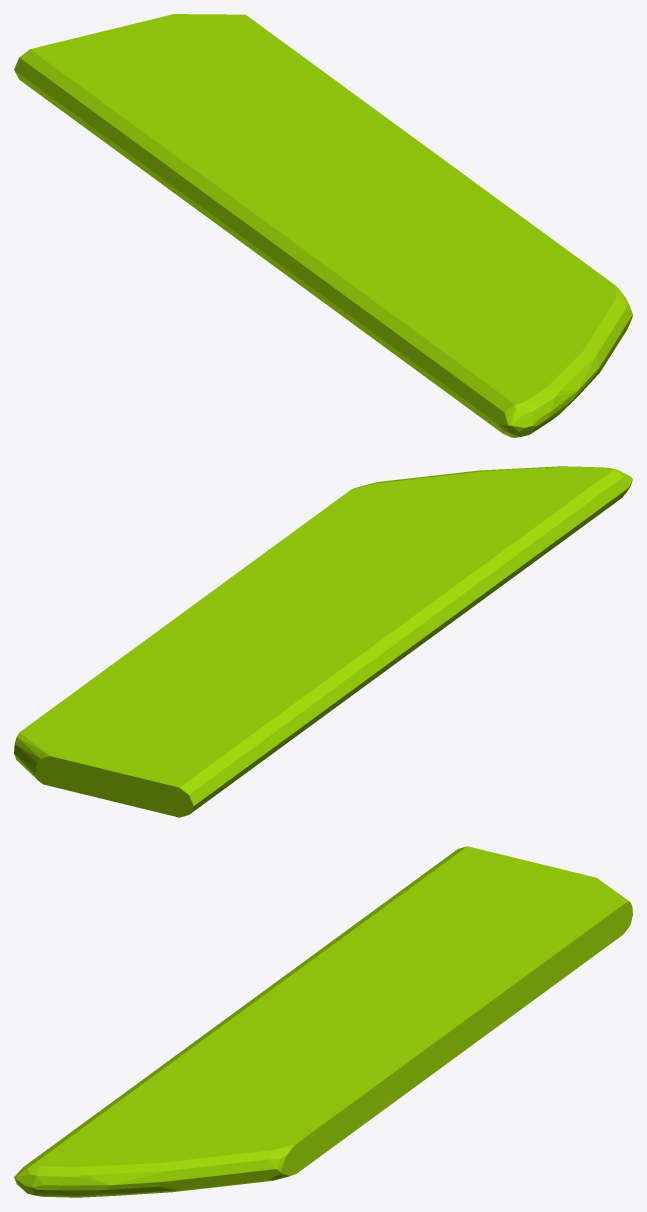
The model's file is model0_convex_piece_009.obj.
3 renders of one model, top to bottom at view 1: azimuth 30°, elevation 25°; view 2: azimuth 150°, elevation 25°; view 3: azimuth 330°, elevation 25°, orthographic. The views are drawn at different scales.
Bounding box in the file's own units: 0.0185 × 0.00278 × 0.0744.
